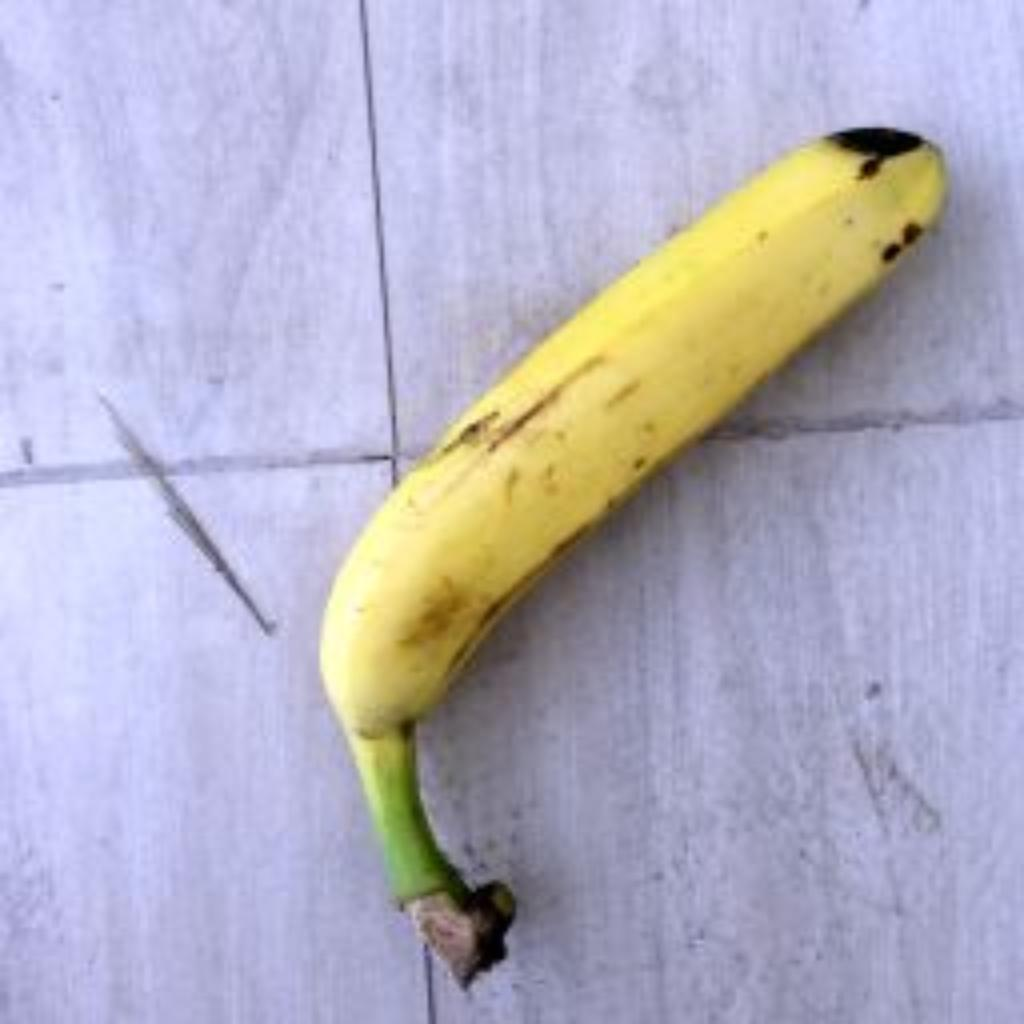banana: (324, 132, 946, 987)
